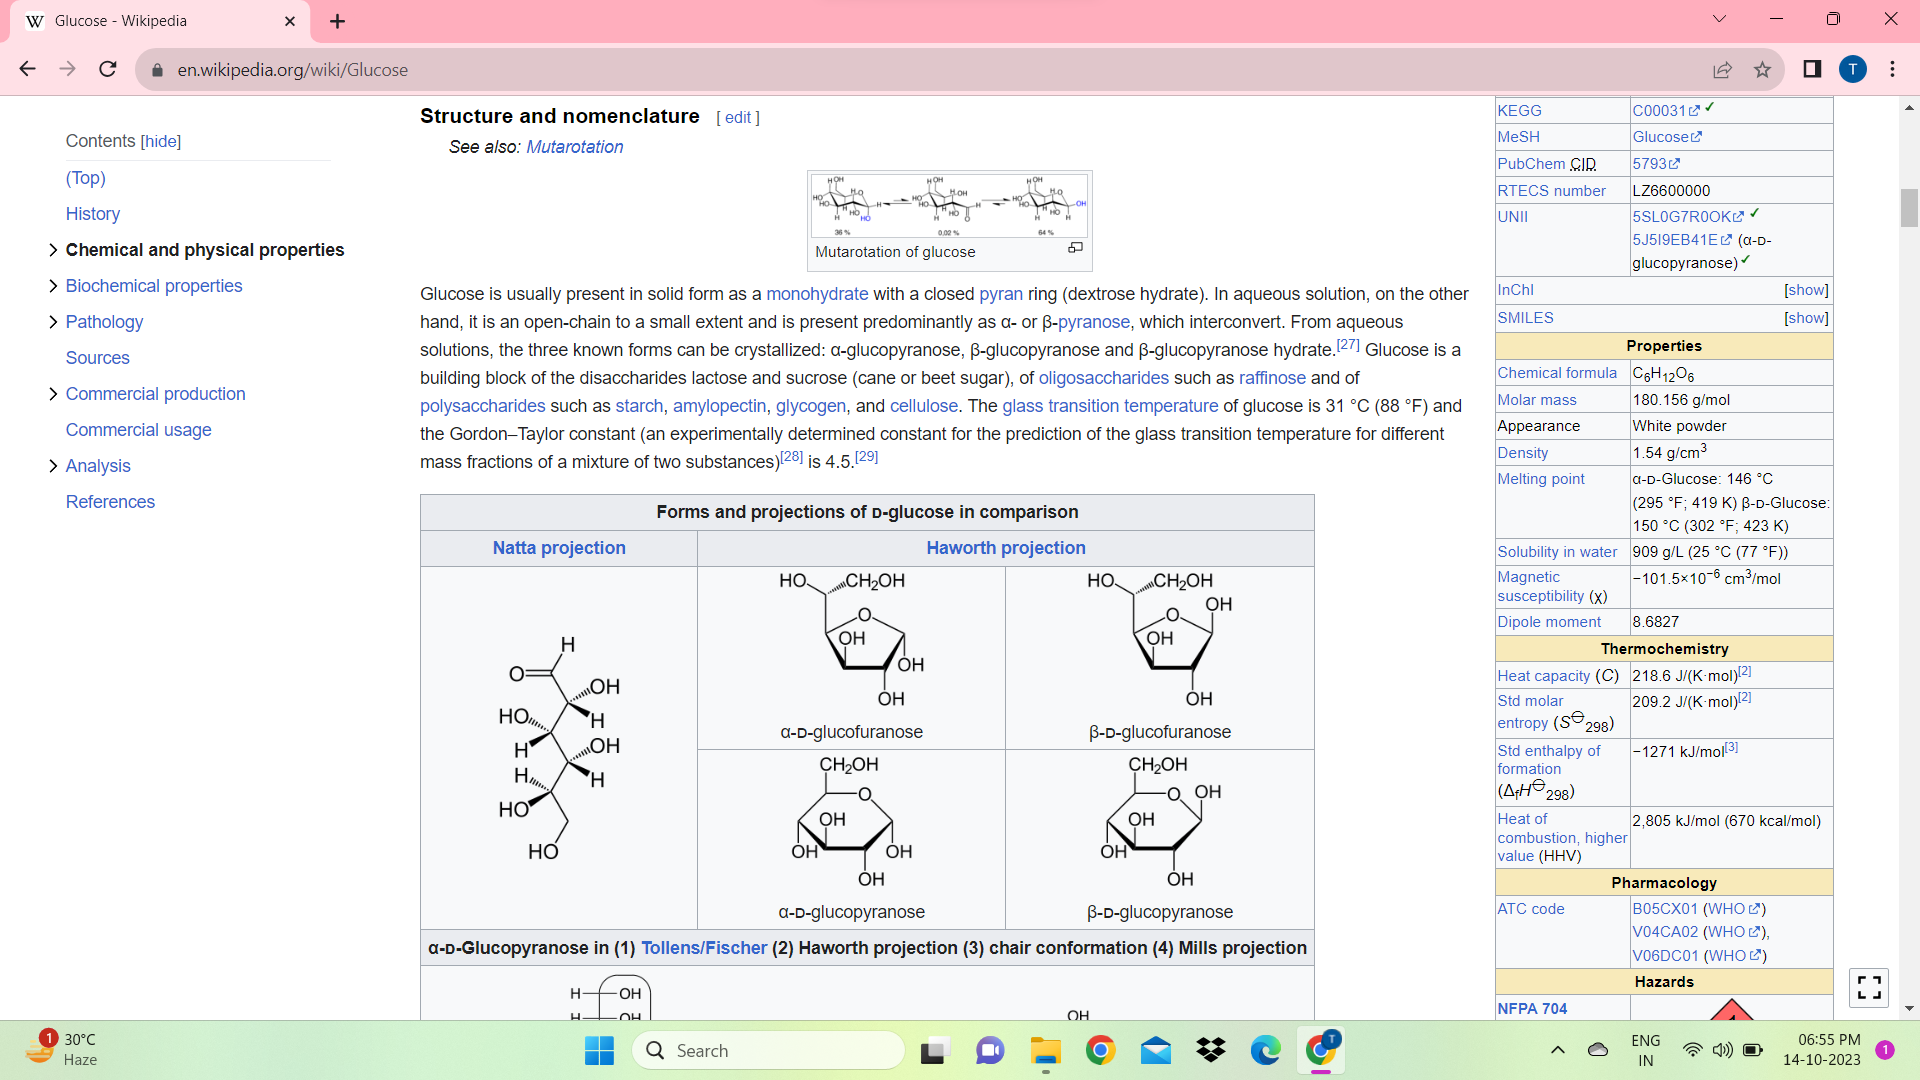Image: (425, 560, 667, 902), (1042, 566, 1279, 720), (742, 574, 981, 719), (744, 746, 964, 902), (800, 160, 1130, 241), (1081, 750, 1236, 899)
Paragraph: (404, 261, 1489, 479), (649, 495, 1106, 530), (465, 522, 651, 566), (916, 530, 1112, 566), (50, 121, 199, 156), (67, 377, 258, 404), (57, 299, 164, 339), (57, 455, 153, 479)
